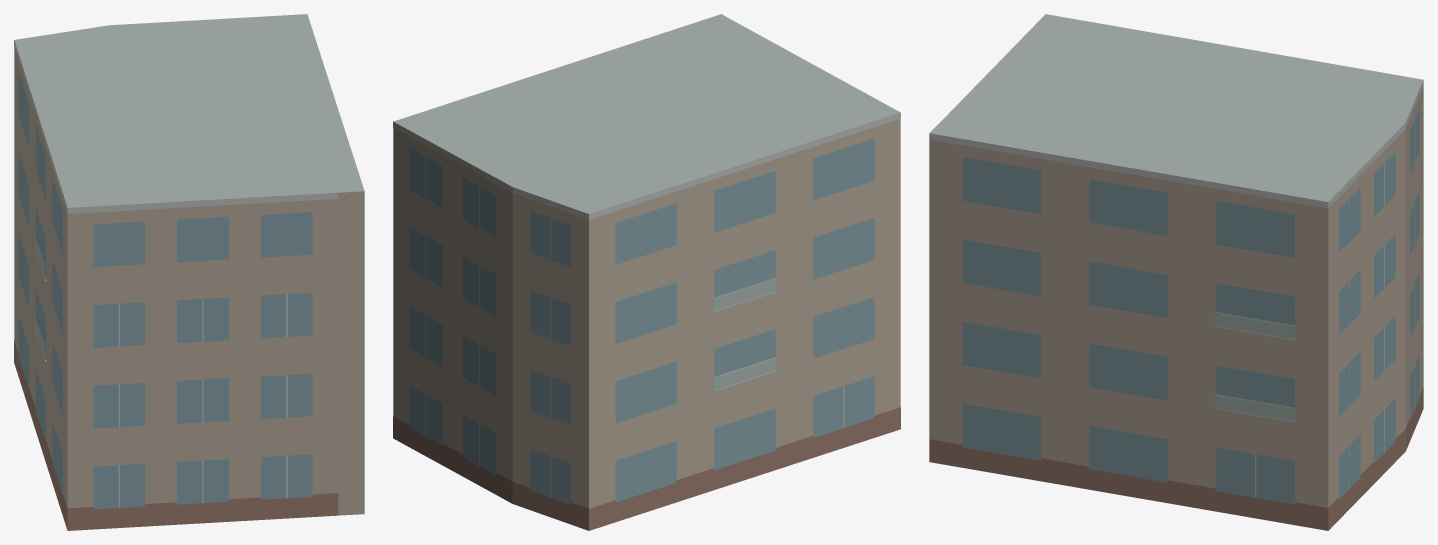
File: survey-upis-32656481.glb
The picture shows the model from 3 angles, left to right: view 1: azimuth 30°, elevation 25°; view 2: azimuth 150°, elevation 25°; view 3: azimuth 270°, elevation 25°; orthographic projection. The views are drawn at different scales.
Visible parts, largest first — view 1: survey-upis-32656481.tmp; view 2: survey-upis-32656481.tmp; view 3: survey-upis-32656481.tmp.
Part boxes in pixels (x1,y1,x2,y2): survey-upis-32656481.tmp: (14, 14, 364, 530); survey-upis-32656481.tmp: (393, 14, 900, 530); survey-upis-32656481.tmp: (929, 14, 1423, 530).
Size of the model in its own units: 15.71 by 12.8 by 17.45.
